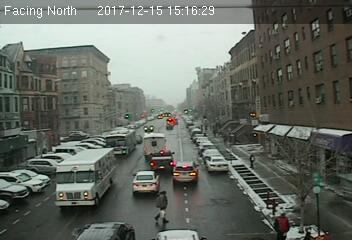bus: (105, 129, 138, 156)
car: (130, 171, 160, 193), (172, 160, 198, 183), (150, 150, 175, 171), (207, 156, 228, 175)
pedestrian: (153, 190, 174, 229), (274, 209, 292, 239), (247, 151, 255, 172)
truck: (55, 147, 117, 205), (142, 133, 166, 156)
